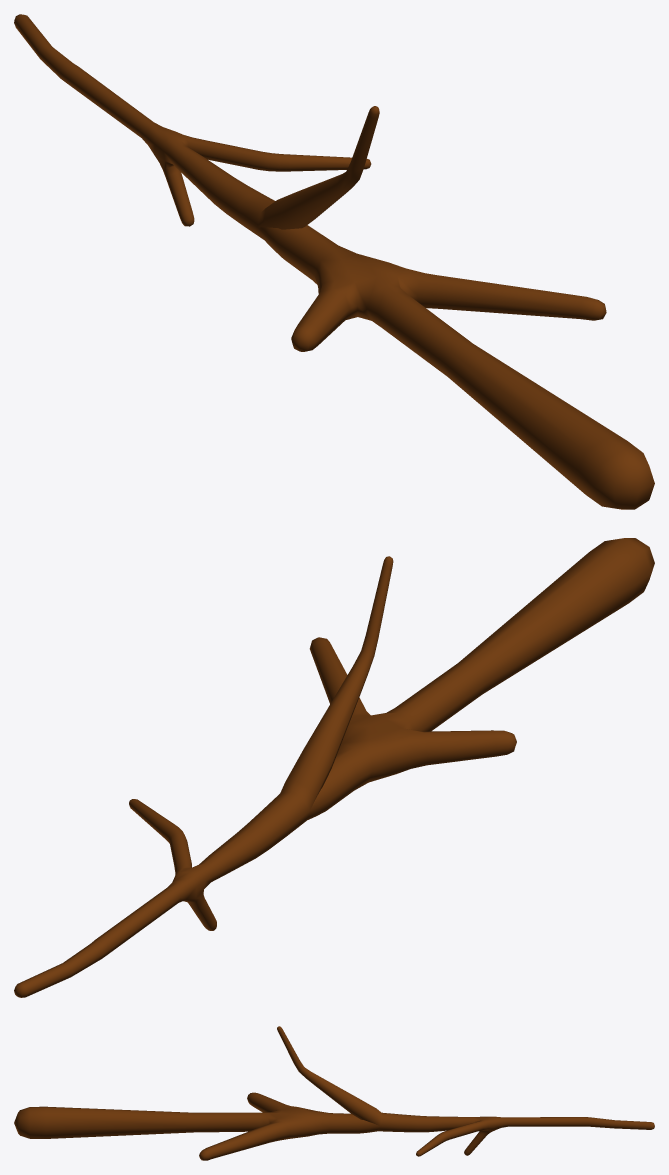
The model's file is fallen_tree.fbx.
3 renders of one model, top to bottom at view 1: azimuth 30°, elevation 25°; view 2: azimuth 150°, elevation 25°; view 3: azimuth 270°, elevation 25°, orthographic. The views are drawn at different scales.
Parts seen in each view (by area): view 1: fallen_tree; view 2: fallen_tree; view 3: fallen_tree.
Boxes of the visible parts, <box> form: fallen_tree: <box>14,14,654,509</box>; fallen_tree: <box>14,538,654,997</box>; fallen_tree: <box>14,1026,654,1160</box>.
Size of the model in its own units: 40.09 by 37.18 by 167.
